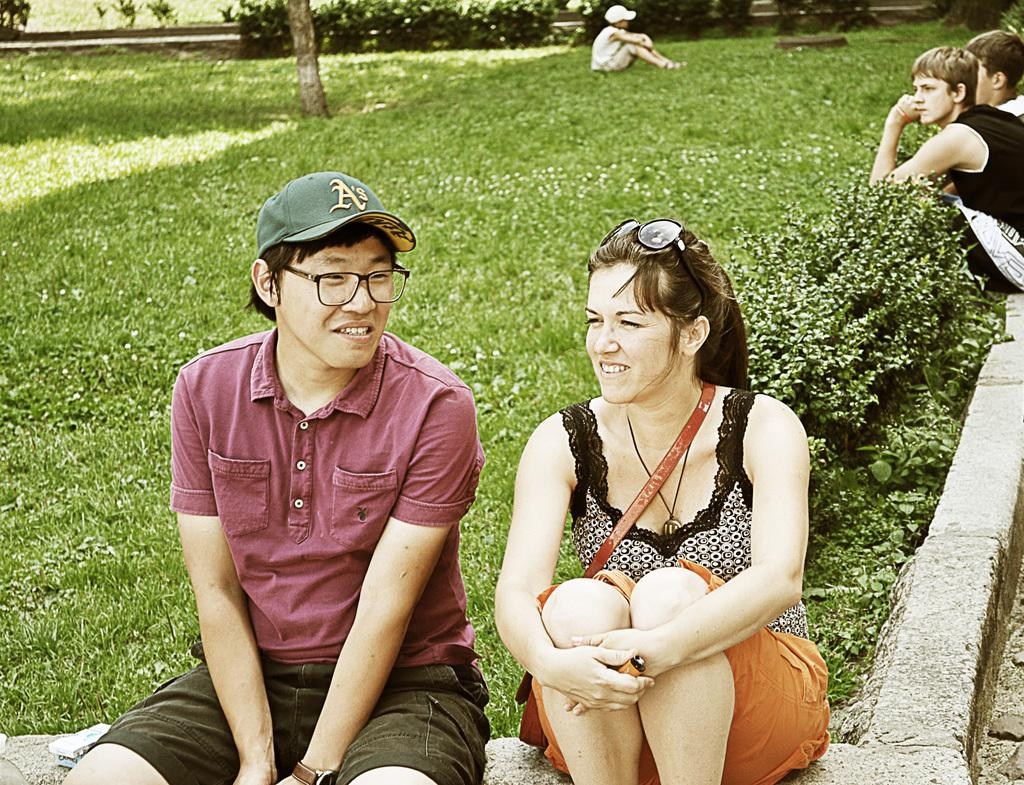Hat: (254, 168, 415, 258), (604, 3, 636, 24)
